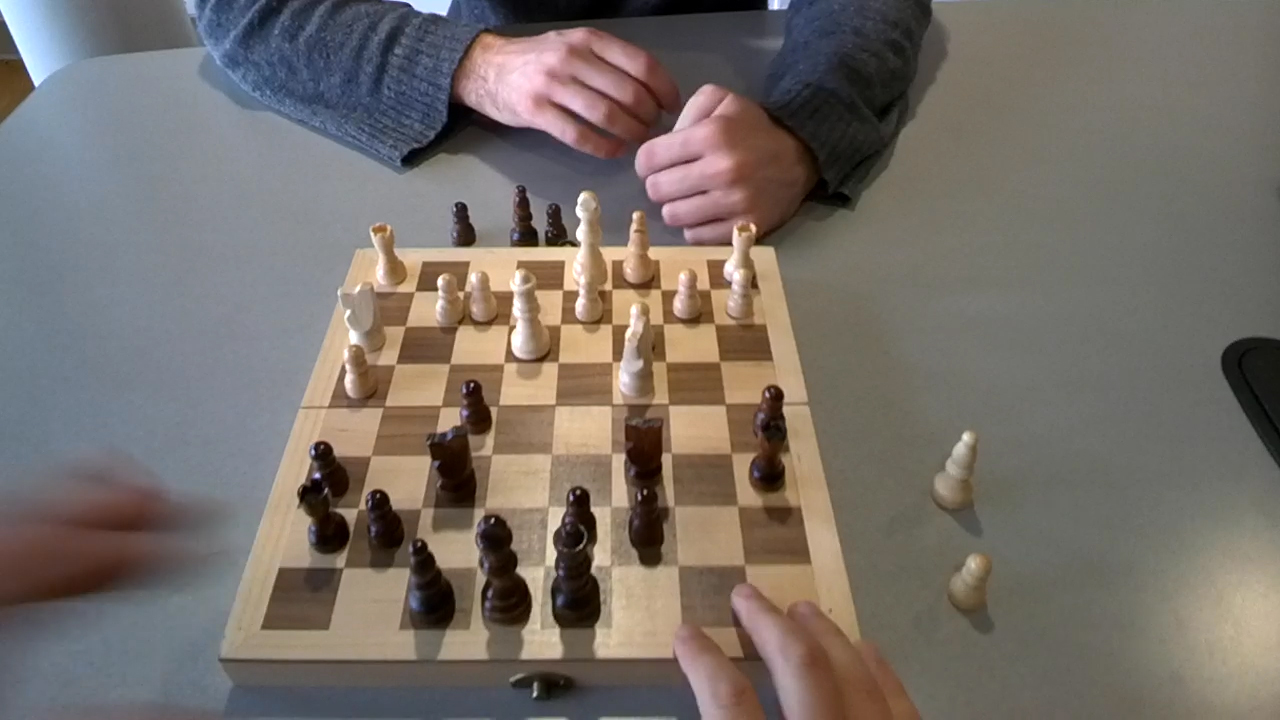hand: (0, 444, 241, 718), (670, 582, 926, 718), (461, 21, 684, 154), (632, 83, 809, 245)
